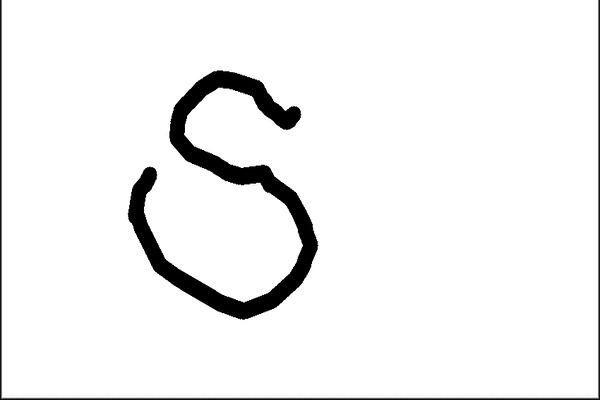S: (122, 64, 323, 324)
